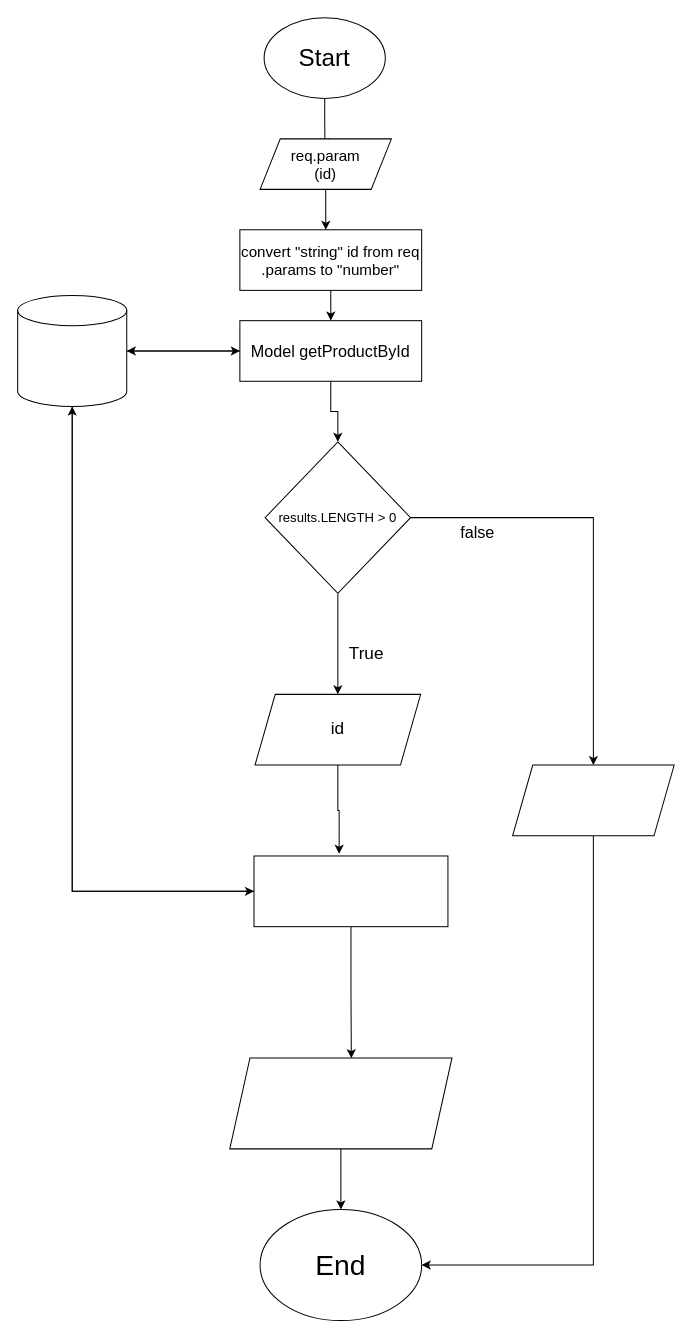
The diagram is 692 pixels wide and 1338 high, and some of its shapes have lost their labels. Each missing label, with the box of its shape:
"Delete data SuccsessFully": (229, 1057, 452, 1149)
"Error, product not found": (512, 764, 674, 836)
DB: (17, 294, 127, 407)
Model : deleteProduct: (253, 855, 448, 927)
